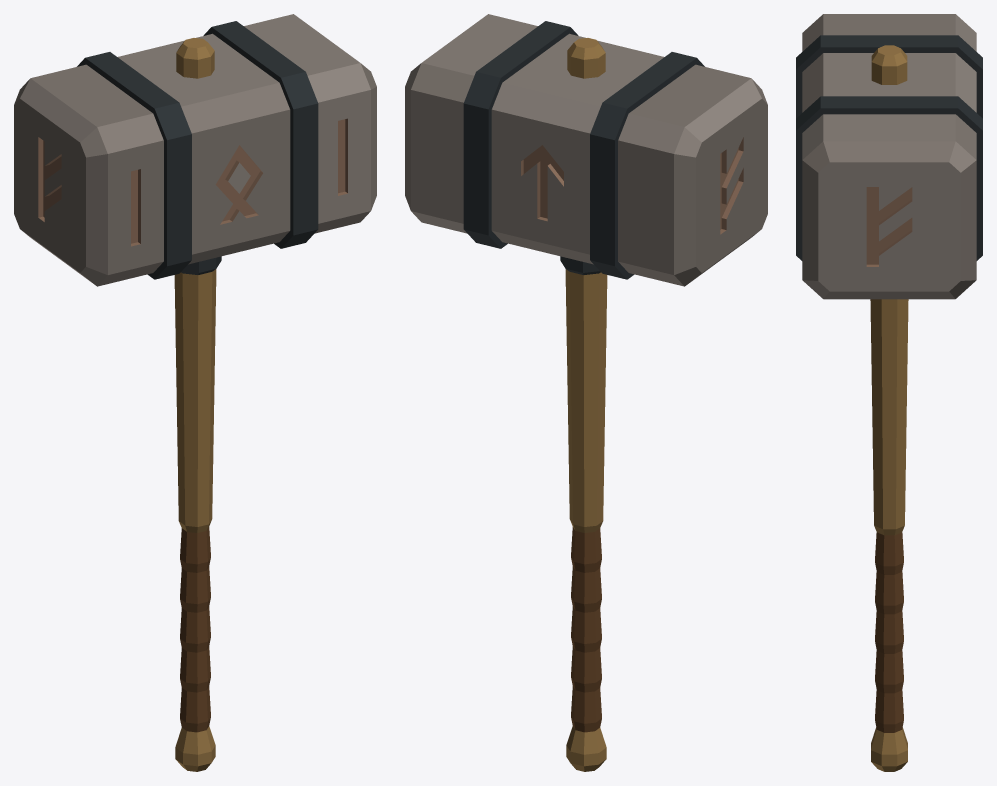
File: stone-headed-maul-27e8cf.glb
3 views of the same model, side by side, from view 1: azimuth 30°, elevation 25°; view 2: azimuth 150°, elevation 25°; view 3: azimuth 270°, elevation 25° (orthographic).
Visible parts, largest first — view 1: maul; view 2: maul; view 3: maul.
Boxes of the visible parts, x1,y1,x2,y2 form: maul: (14, 14, 376, 771); maul: (405, 14, 767, 771); maul: (796, 14, 982, 771).
Bounding box in the file's own units: 0.42 × 0.998 × 0.236.
